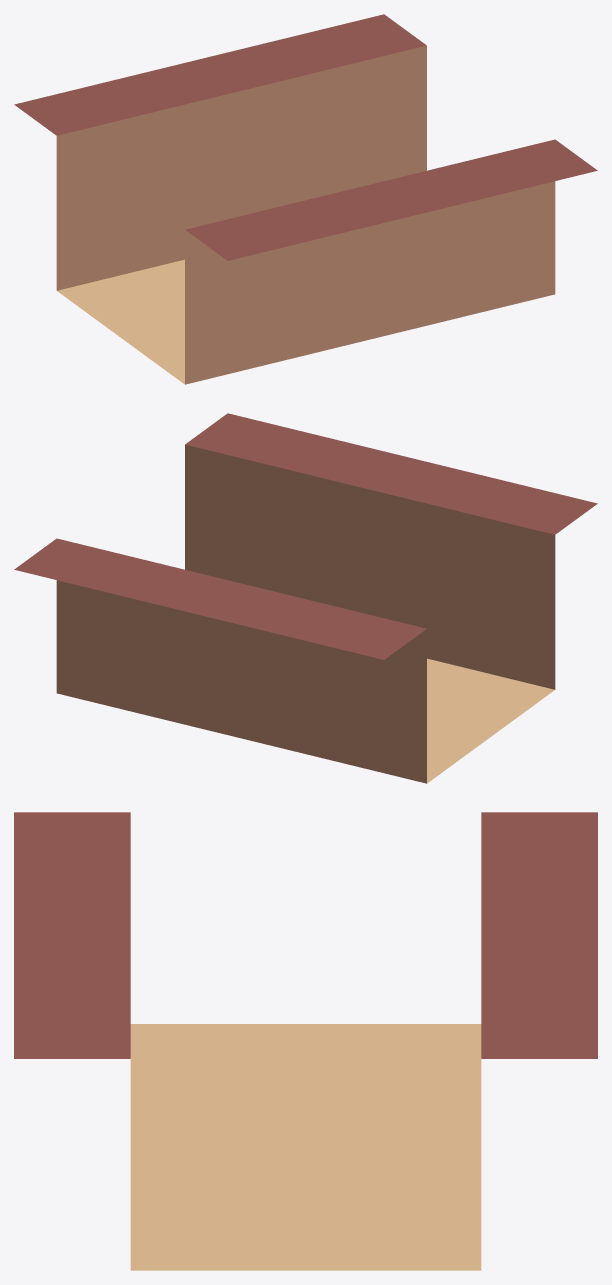
The model's file is SM_Tile_Straight.fbx.
3 renders of one model, top to bottom at view 1: azimuth 30°, elevation 25°; view 2: azimuth 150°, elevation 25°; view 3: azimuth 270°, elevation 25°, orthographic. The views are drawn at different scales.
Parts seen in each view (by area): view 1: SM_Tile_Straight; view 2: SM_Tile_Straight; view 3: SM_Tile_Straight.
Part boxes in pixels (x1=…): SM_Tile_Straight: x1=14, y1=14, x2=597, y2=384; SM_Tile_Straight: x1=14, y1=413, x2=597, y2=783; SM_Tile_Straight: x1=14, y1=812, x2=597, y2=1270.
Size of the model in its own units: 500 by 200 by 500.
